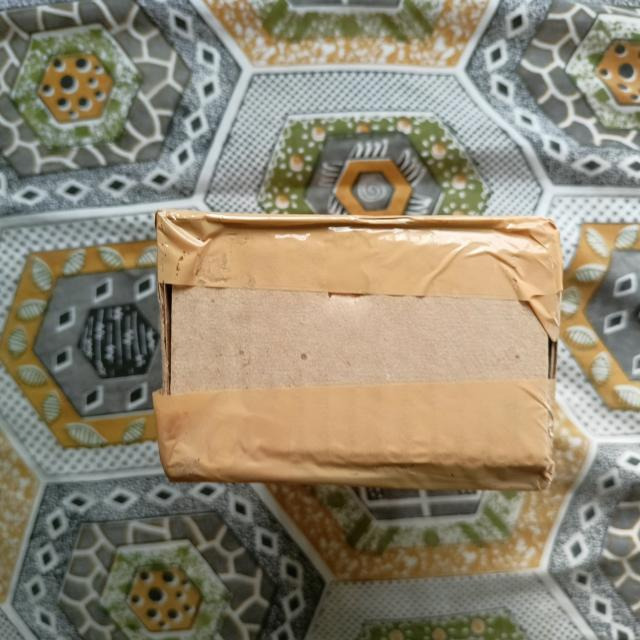box: (155, 216, 554, 486)
